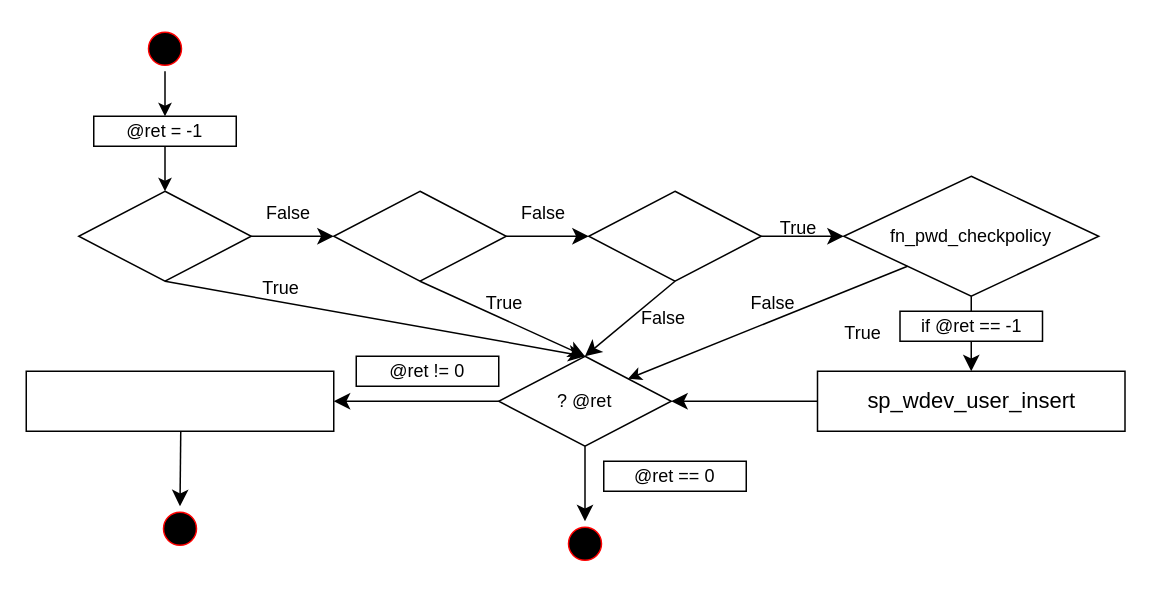
This 1152x593 diagram has some shape labels left out. The box of each missing label's shape, as (x1, y1, x2, y2) in pixels:
create user error message: (25, 370, 334, 431)
fn_mail_exists: (332, 190, 506, 281)
fn_mail_isvalid: (587, 190, 761, 281)
fn_user_exists: (77, 190, 251, 281)
